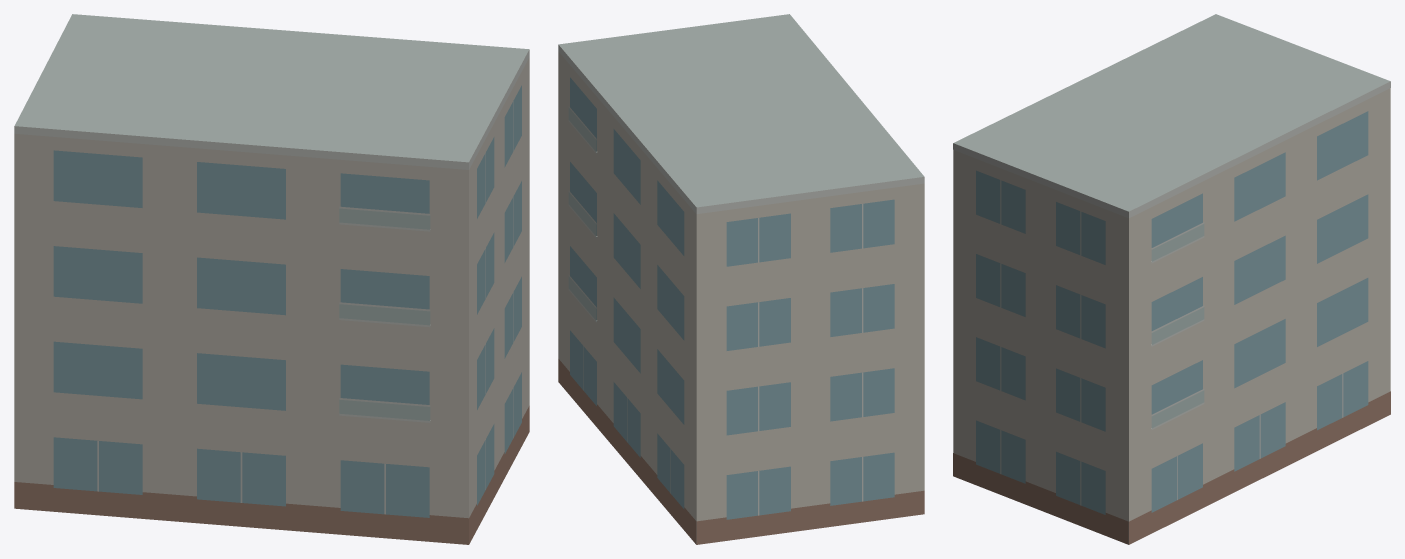
The model's file is survey-upis-32944147.glb.
3 views of the same model, side by side, from view 1: azimuth 30°, elevation 25°; view 2: azimuth 150°, elevation 25°; view 3: azimuth 270°, elevation 25° (orthographic). The views are drawn at different scales.
Visible parts, largest first — view 1: survey-upis-32944147.tmp; view 2: survey-upis-32944147.tmp; view 3: survey-upis-32944147.tmp.
Boxes of the visible parts, x1=… form: survey-upis-32944147.tmp: x1=14, y1=14, x2=529, y2=544; survey-upis-32944147.tmp: x1=558, y1=14, x2=924, y2=544; survey-upis-32944147.tmp: x1=953, y1=14, x2=1390, y2=544.
Bounding box in the file's own units: 15.54 × 12.2 × 14.53.
